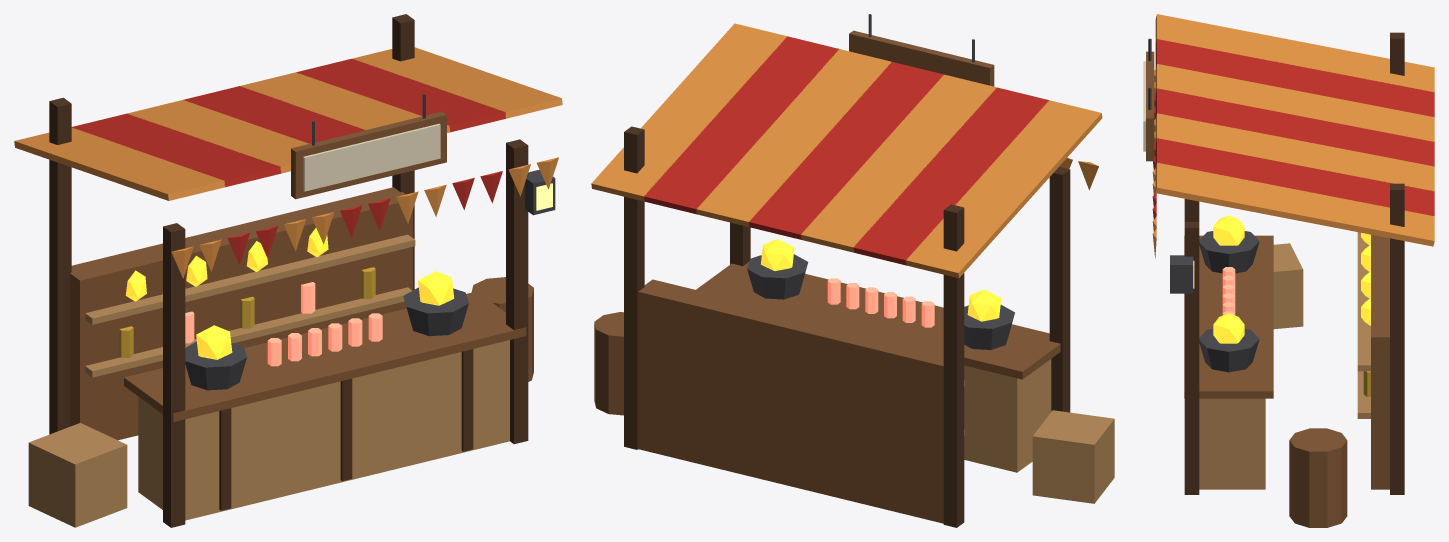
File: Stand_Feuer.fbx
3 renders of one model, left to right at view 1: azimuth 30°, elevation 25°; view 2: azimuth 150°, elevation 25°; view 3: azimuth 270°, elevation 25°, orthographic. The views are drawn at different scales.
Parts seen in each view (by area): view 1: Stand_Feuer; view 2: Stand_Feuer; view 3: Stand_Feuer.
Part boxes in pixels (<box>): Stand_Feuer: <box>14,14,562,527</box>; Stand_Feuer: <box>591,14,1114,527</box>; Stand_Feuer: <box>1143,14,1434,527</box>.
Bounding box in the file's own units: 5.12 × 3.7 × 2.77.
